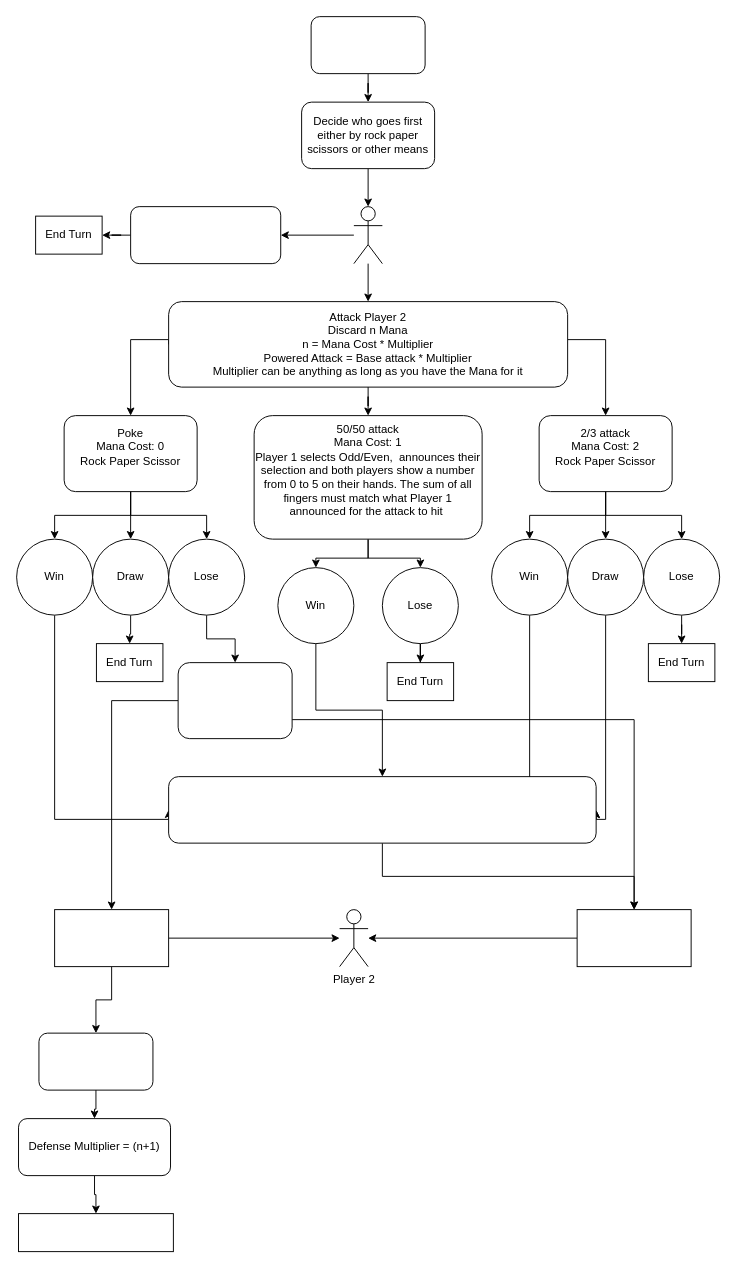
Image size: 736x1268. Some labels were removed from this diagram. The shapes that lost their labels are listed below. From the top down, each one's centre as x and y in pixels, then its label:
point 367,45: Pre Start Check, Ensure all character card's stats add to 15
point 205,235: Draw 1 Mana Card if you have less mana than your Mana stat
point 367,235: Player 1
point 234,700: Player 1 gets counterattacked
point 382,809: Damage to be done to Player 2 Powered Attack - Player 2 Defense stat
point 111,938: Discard Mana cards to increase defence, take min 0 damage
point 633,938: Take the hit for Powered attack - defense, min 1 damage
point 95,1061: n = Mana Cards to discard
point 95,1232: Defending Player End Turn
